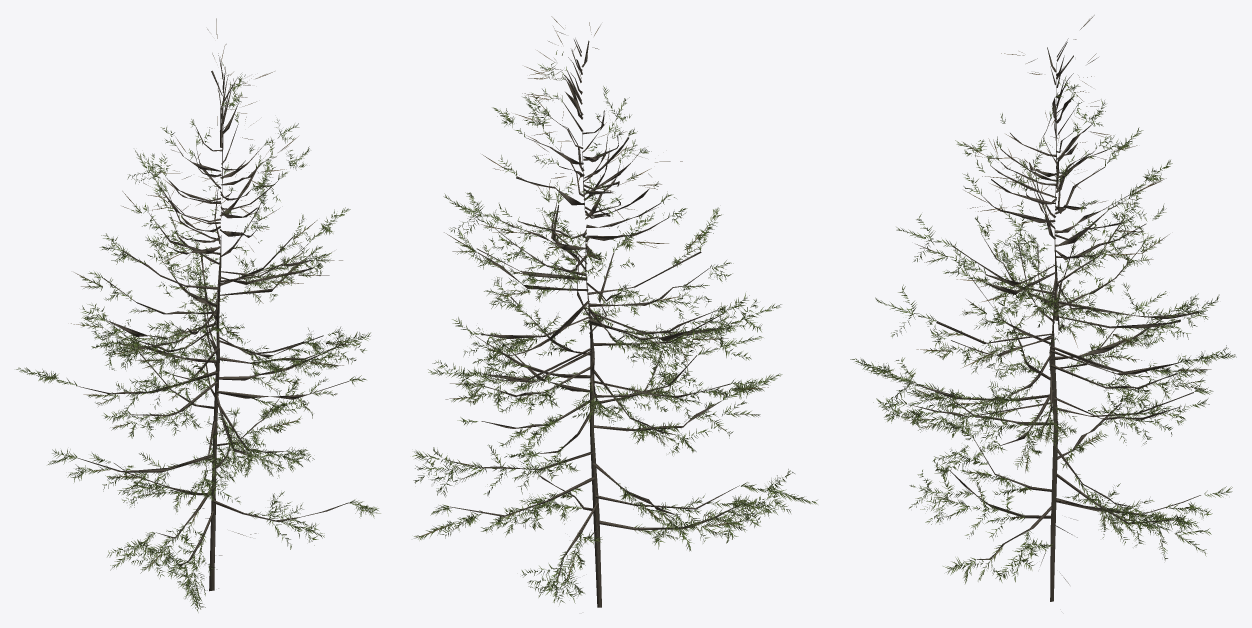
The model's file is distance.fbx.
The picture shows the model from 3 angles, left to right: view 1: azimuth 30°, elevation 25°; view 2: azimuth 150°, elevation 25°; view 3: azimuth 270°, elevation 25°; orthographic projection. The views are drawn at different scales.
Visible parts, largest first — view 1: fir_sapling_medium_a_LOD0; view 2: fir_sapling_medium_a_LOD0; view 3: fir_sapling_medium_a_LOD0.
Part boxes in pixels (<box>): fir_sapling_medium_a_LOD0: <box>16,18,380,612</box>; fir_sapling_medium_a_LOD0: <box>412,16,817,607</box>; fir_sapling_medium_a_LOD0: <box>850,15,1236,601</box>.
Bounding box in the file's own units: 482 × 878 × 509.
